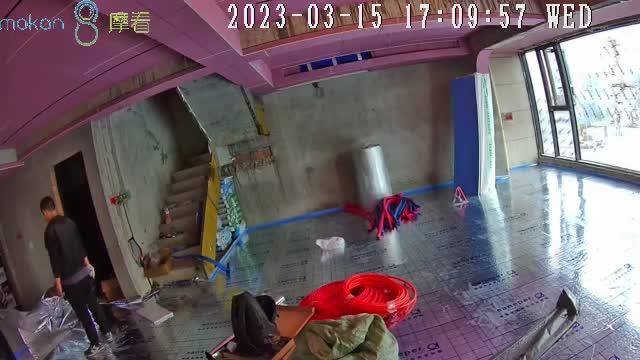people: (39, 196, 112, 356)
window: (520, 24, 640, 175)
